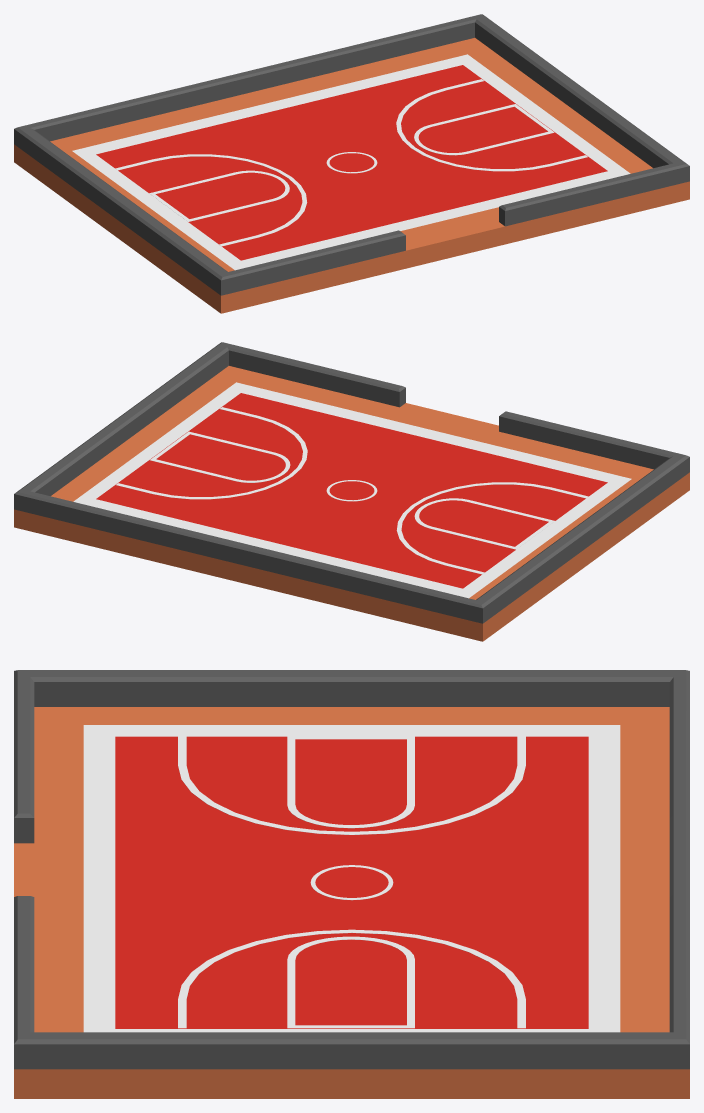
The model's file is Suelo.fbx.
3 views of the same model, one above another, from view 1: azimuth 30°, elevation 25°; view 2: azimuth 150°, elevation 25°; view 3: azimuth 270°, elevation 25° (orthographic). The views are drawn at different scales.
Parts seen in each view (by area): view 1: Cancha; view 2: Cancha; view 3: Cancha.
Part boxes in pixels (x1,y1,x2,y2): Cancha: (14, 14, 689, 313); Cancha: (14, 342, 689, 641); Cancha: (14, 670, 689, 1098).
Size of the model in its own units: 27.75 by 1.99 by 21.23.
